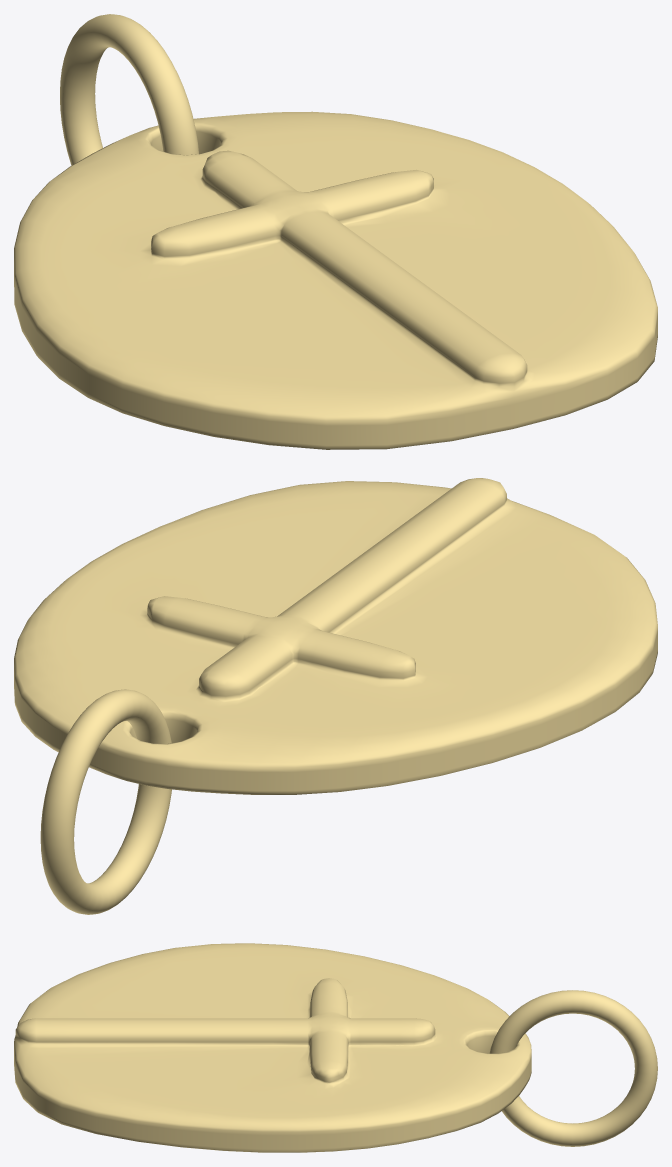
Rendered from Inspire_Charm_Small.glb.
3 views of the same model, one above another, from view 1: azimuth 30°, elevation 25°; view 2: azimuth 150°, elevation 25°; view 3: azimuth 270°, elevation 25° (orthographic). The views are drawn at different scales.
Visible parts, largest first — view 1: Inspire_Charm_Small; view 2: Inspire_Charm_Small; view 3: Inspire_Charm_Small.
Part boxes in pixels (box(x1,y1,x2,y2)): Inspire_Charm_Small: box(14, 14, 657, 449); Inspire_Charm_Small: box(14, 478, 657, 914); Inspire_Charm_Small: box(14, 943, 657, 1152).
Size of the model in its own units: 0.0102 by 0.00391 by 0.0148.
